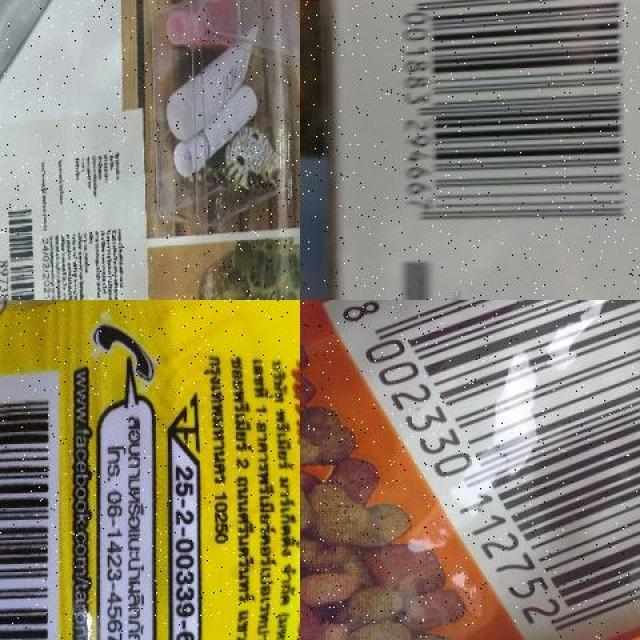Barcode: (318, 300, 640, 640), (372, 0, 640, 252), (0, 374, 57, 640), (0, 195, 40, 300)
